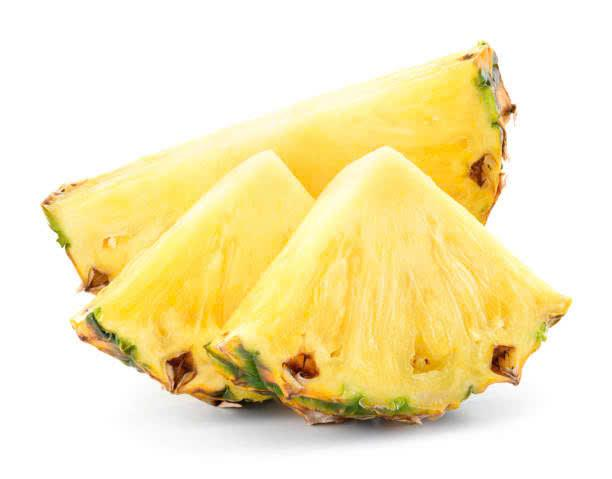pineapple: (54, 43, 530, 287), (264, 169, 576, 418), (93, 176, 277, 393)
